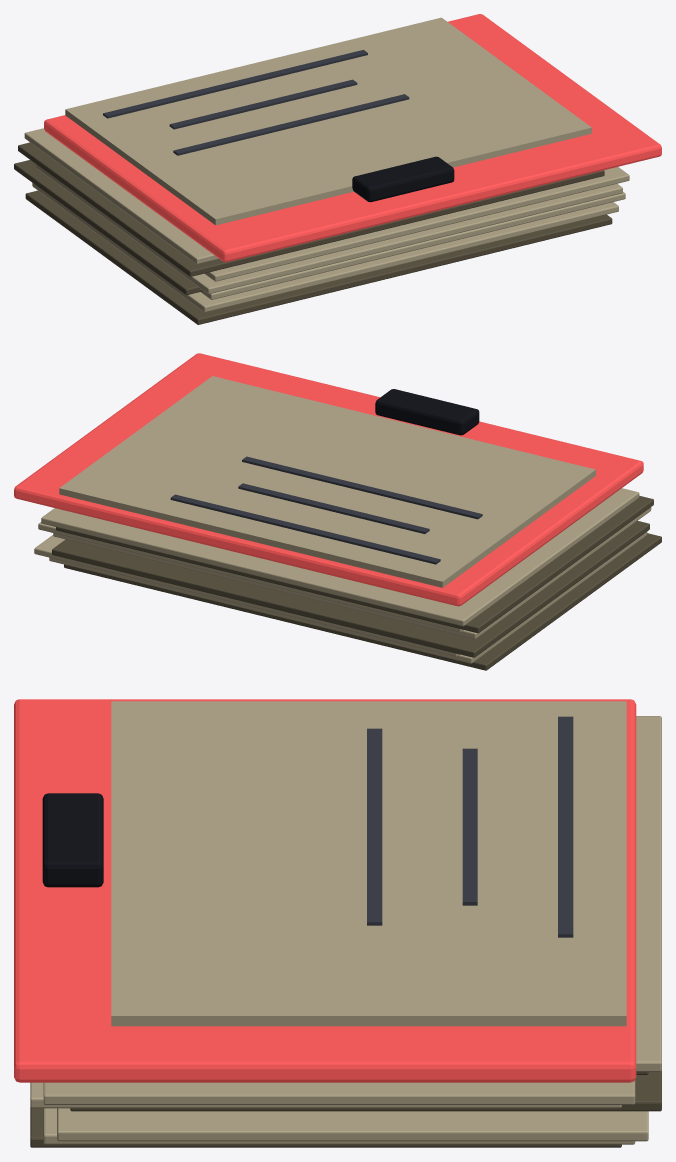
File: paperwork_stack.glb
The picture shows the model from 3 angles, top to bottom: view 1: azimuth 30°, elevation 25°; view 2: azimuth 150°, elevation 25°; view 3: azimuth 270°, elevation 25°; orthographic projection. The views are drawn at different scales.
Visible parts, largest first — view 1: paperwork_stack; view 2: paperwork_stack; view 3: paperwork_stack.
Part boxes in pixels (<box>): paperwork_stack: <box>14,14,661,324</box>; paperwork_stack: <box>14,353,661,670</box>; paperwork_stack: <box>14,699,661,1147</box>.
Size of the model in its own units: 0.4775 by 0.0905 by 0.3395.
